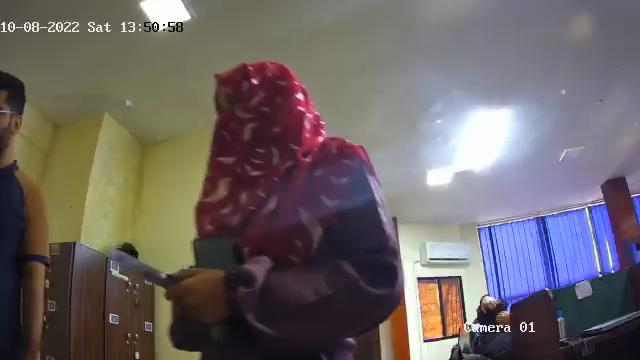knives: (104, 241, 186, 301)
